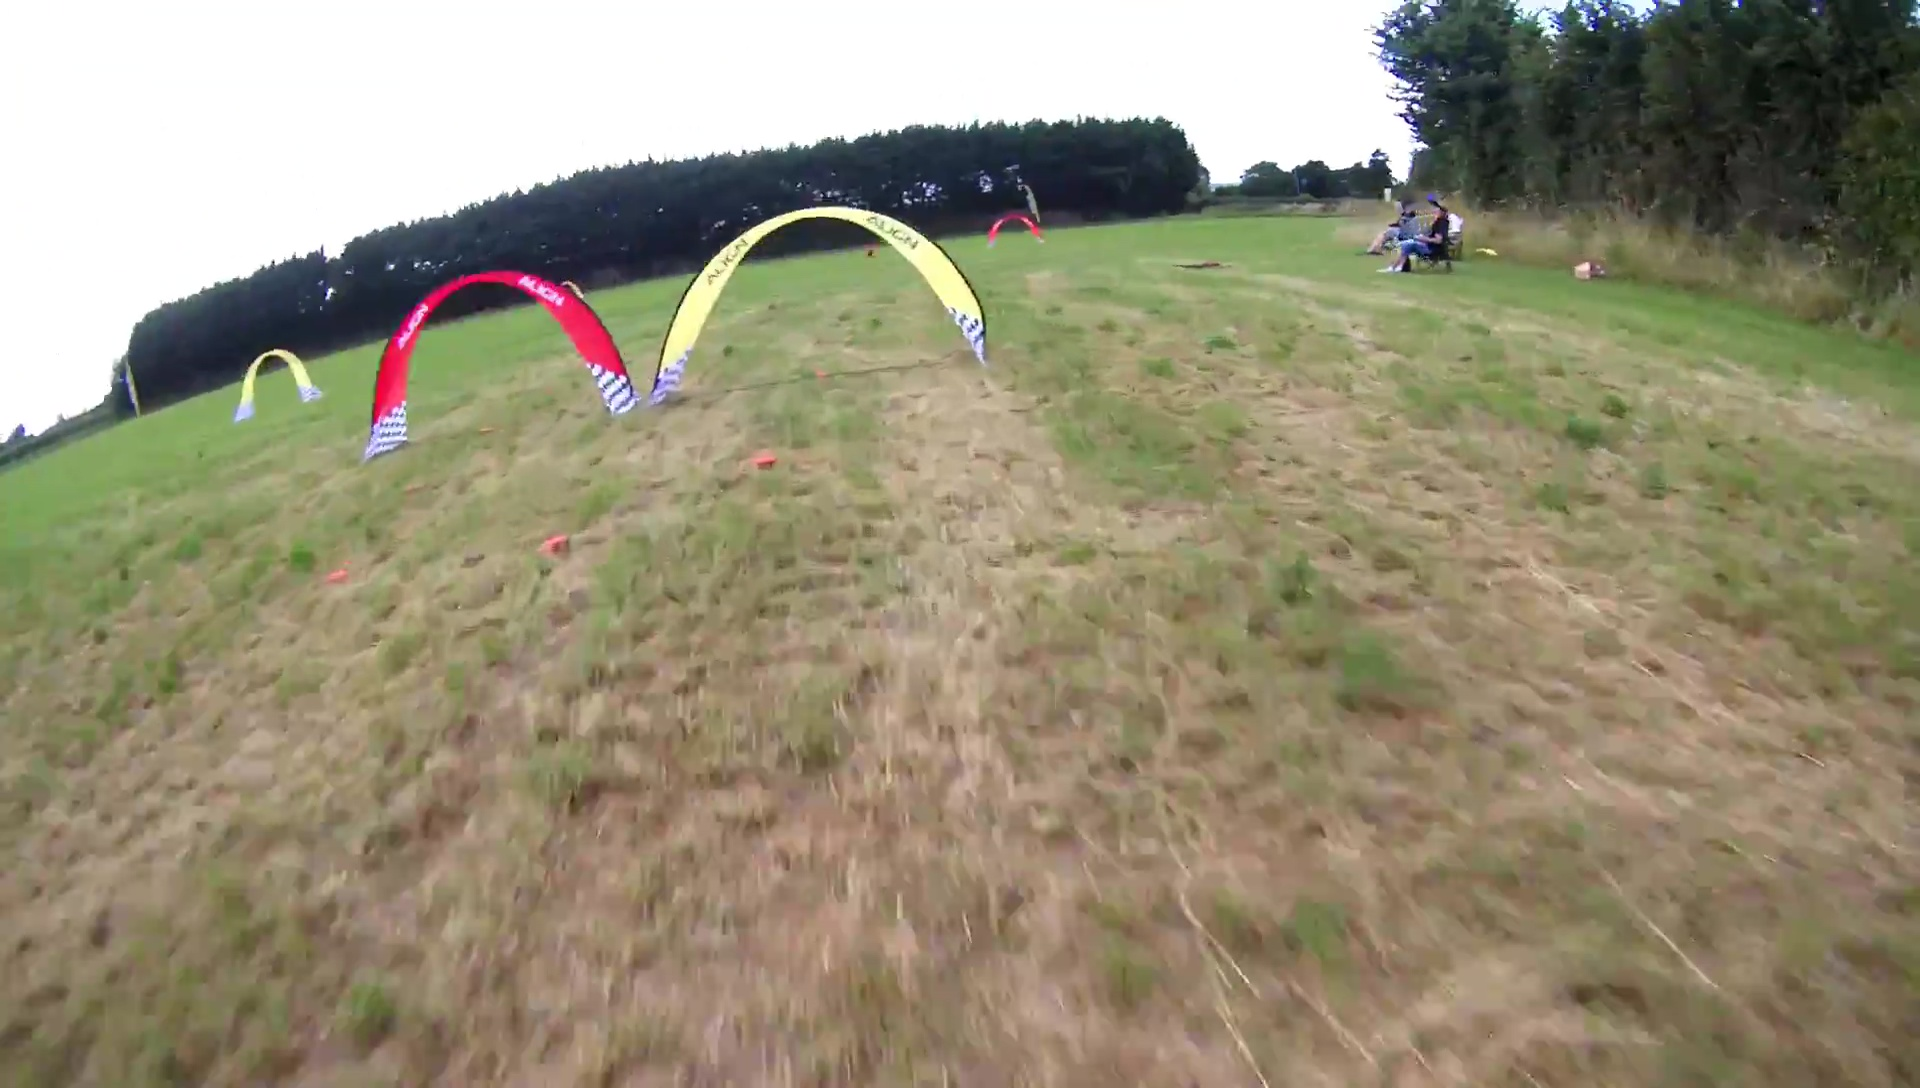gate: (645, 203, 996, 406), (363, 268, 641, 460), (231, 348, 324, 425)
